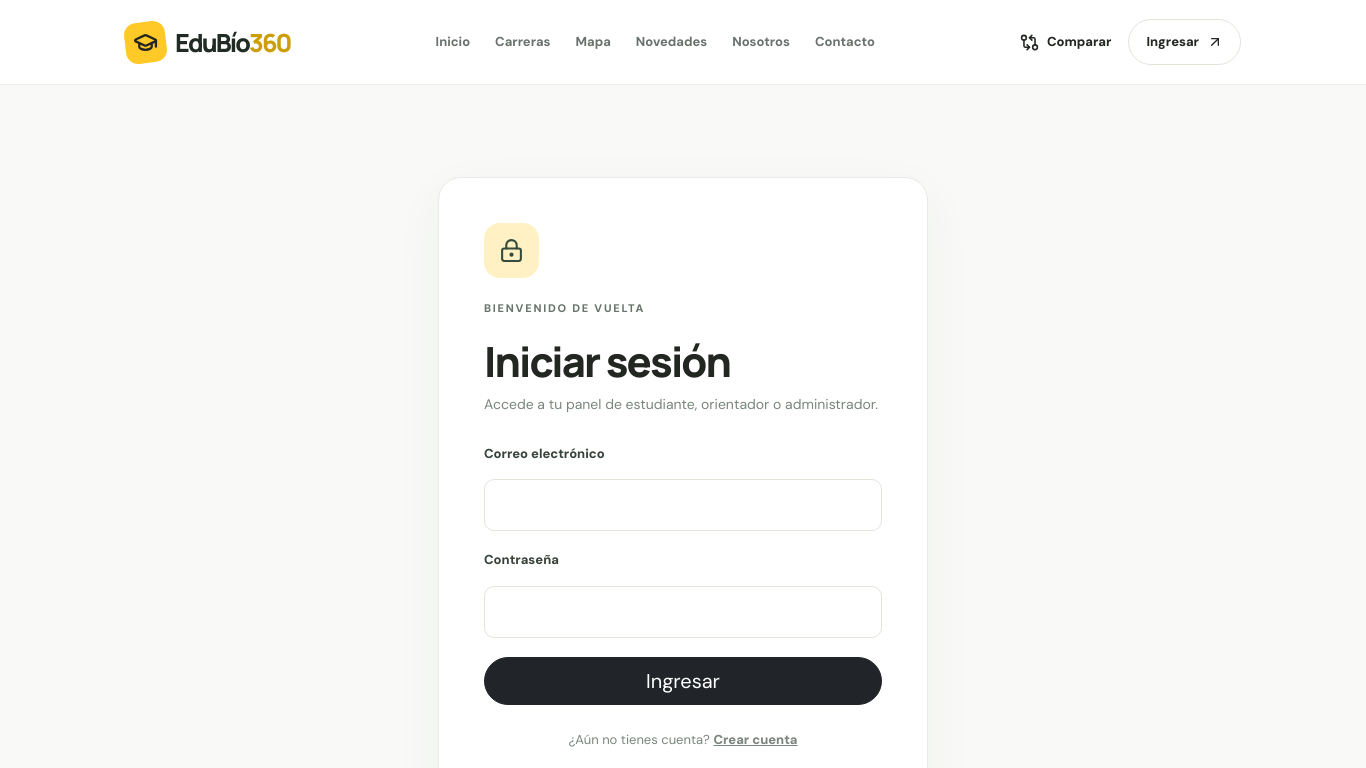
Scenario: Vistas migradas de EP1 › permite iniciar sesión como estudiante y abrir su panel
This screenshot has width=1366, height=768.
Type "estudiante@duoc.cl" into the field labelled "Correo electrónico" at (683, 505), box [484,479,882,531]
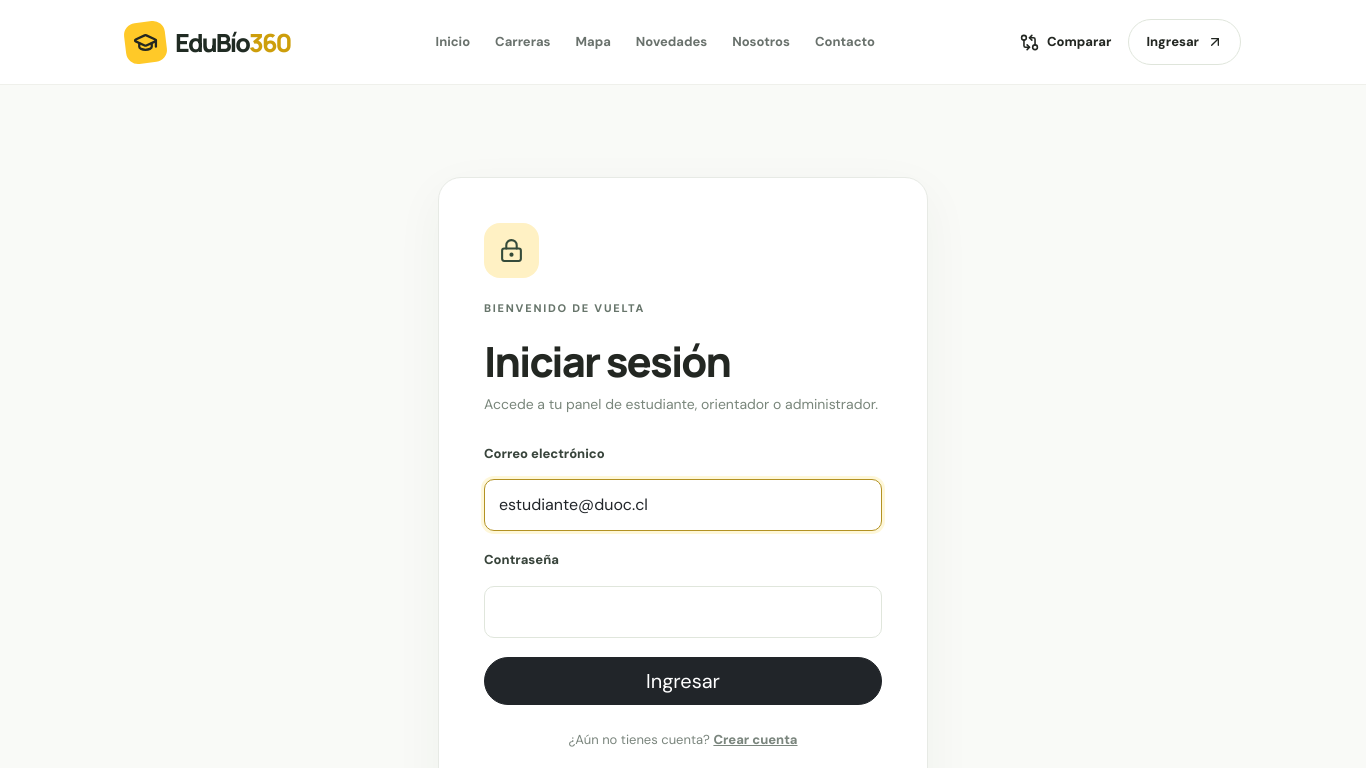
Type "1234" into the password field labelled "Contraseña" at (683, 612), box [484,586,882,638]
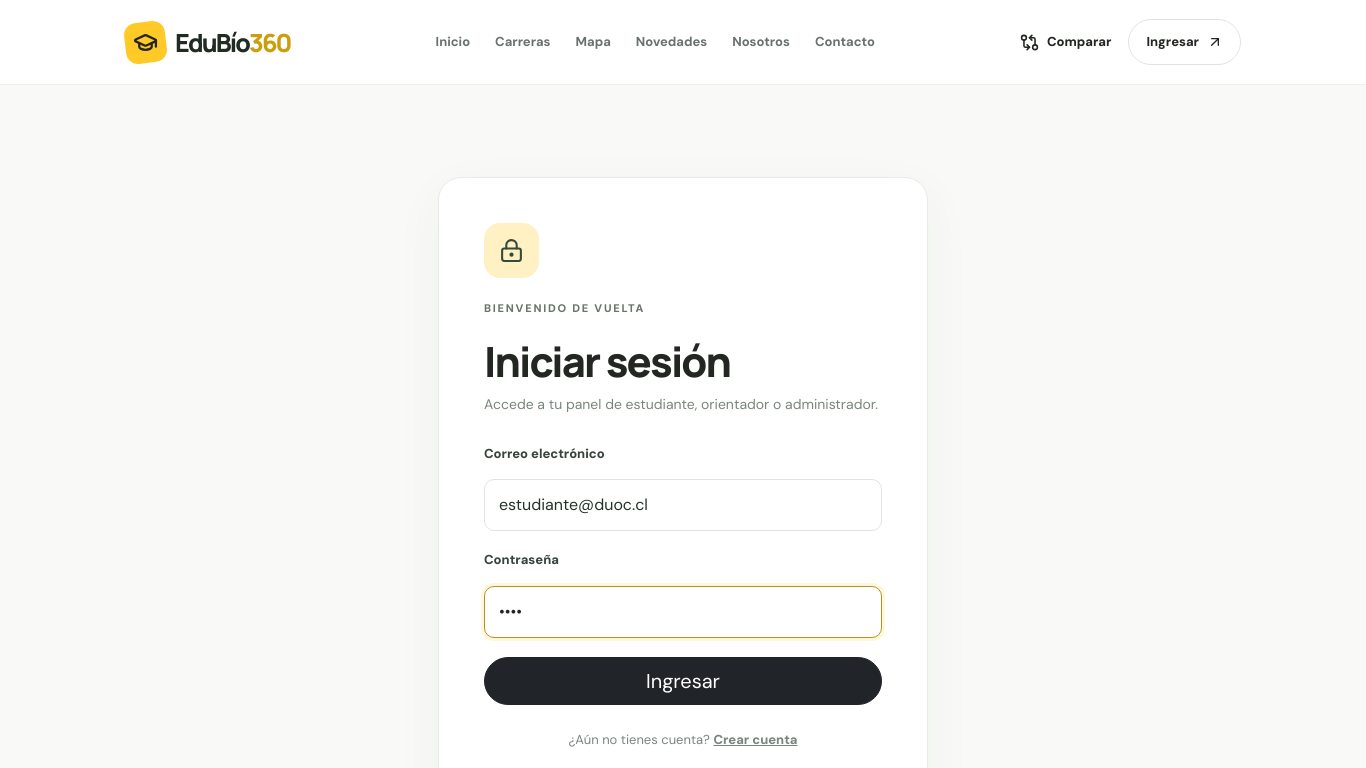
Click the button "Ingresar" at (683, 681), box [484,657,882,705]
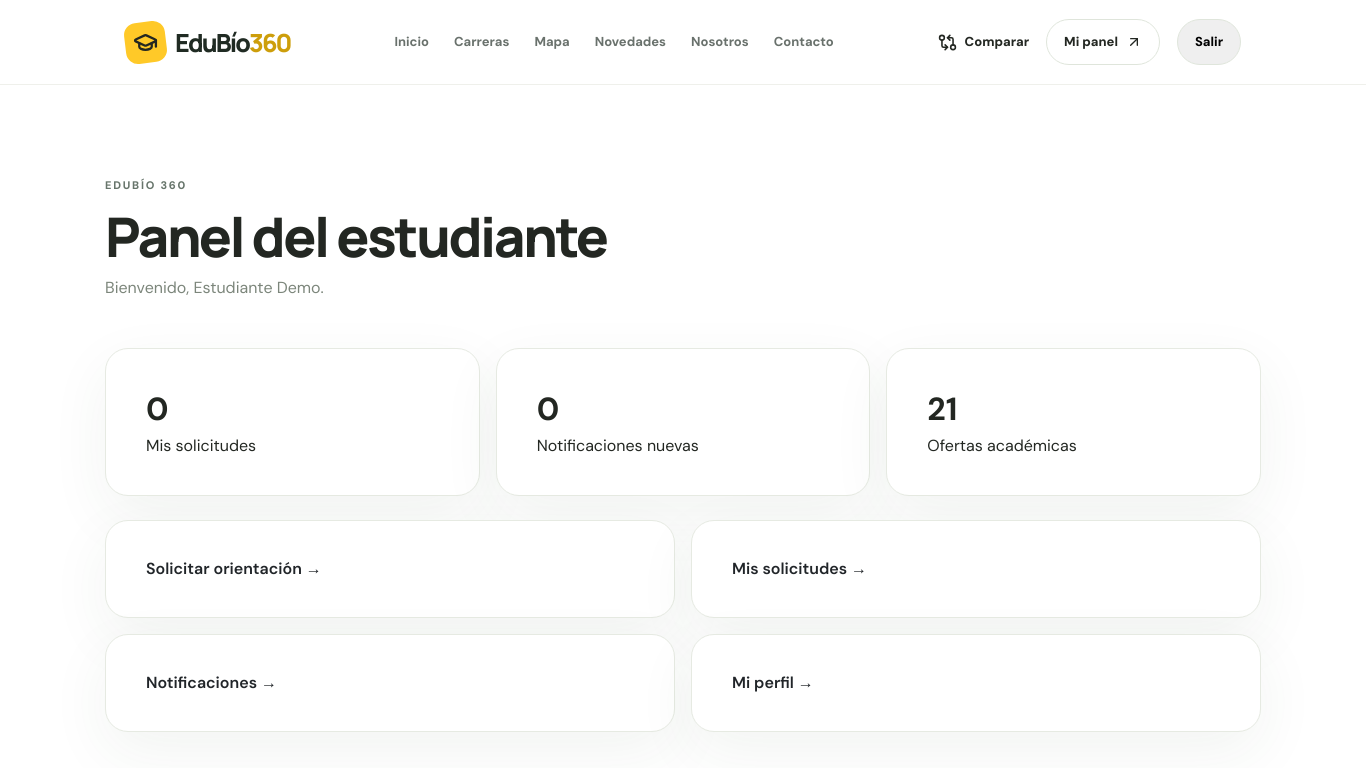
Expected: the heading "Panel del estudiante" is shown, [105,198,606,272]
Expected: the link "Solicitar orientación →" is shown, [105,520,675,618]
